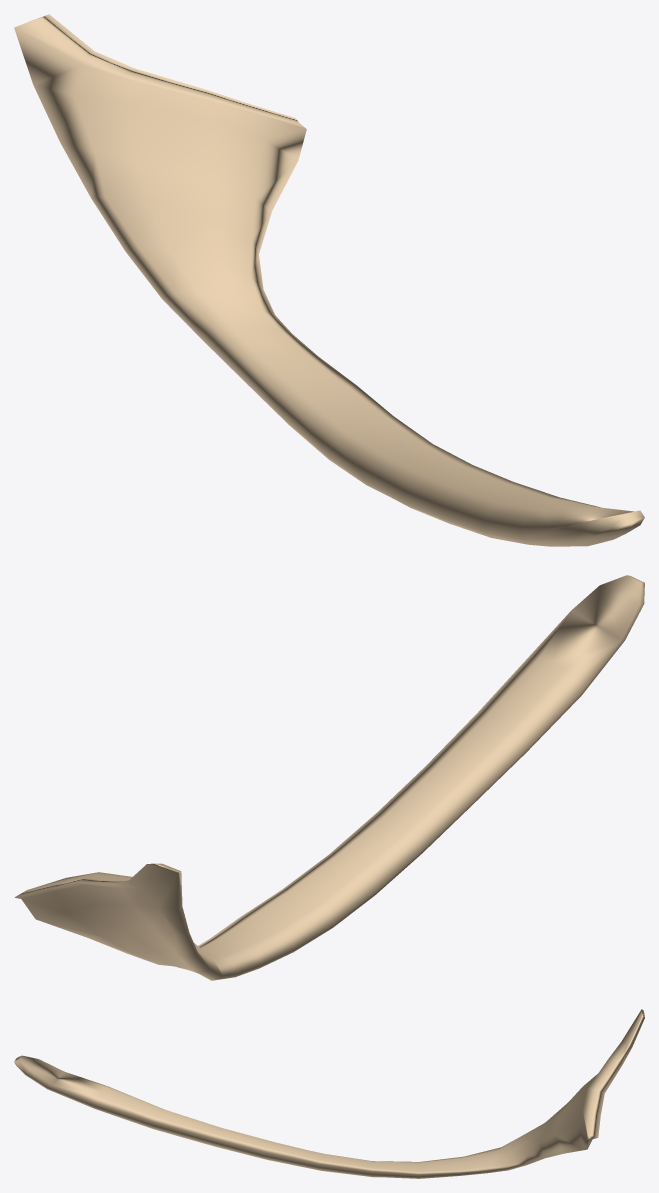
Rendered from l_olfactory_nerve_v02.fbx.
The picture shows the model from 3 angles, top to bottom: view 1: azimuth 30°, elevation 25°; view 2: azimuth 150°, elevation 25°; view 3: azimuth 270°, elevation 25°; orthographic projection. The views are drawn at different scales.
Parts seen in each view (by area): view 1: L_Olfactory_Nerve; view 2: L_Olfactory_Nerve; view 3: L_Olfactory_Nerve.
Part boxes in pixels (<box>): L_Olfactory_Nerve: <box>14,14,644,546</box>; L_Olfactory_Nerve: <box>14,575,644,980</box>; L_Olfactory_Nerve: <box>14,1009,644,1178</box>.
Size of the model in its own units: 0.9418 by 1.01 by 3.92.
